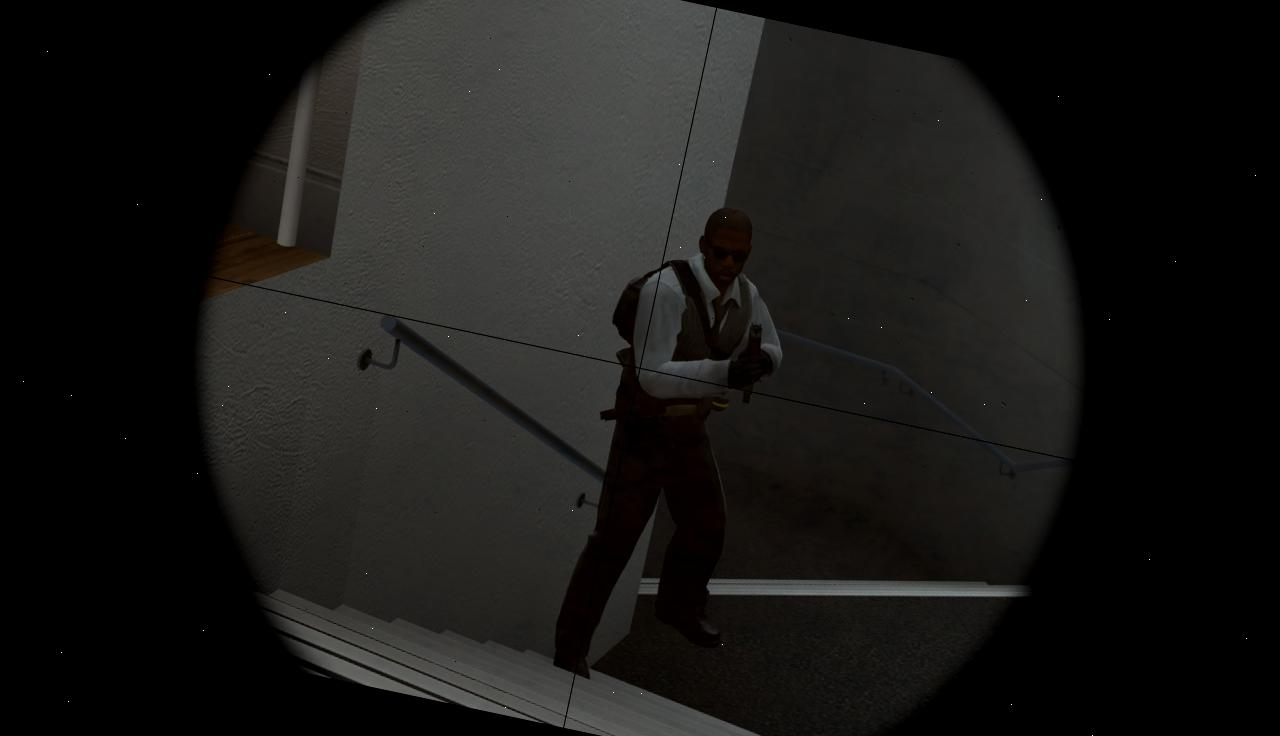tt: (549, 190, 798, 700)
tthead: (692, 203, 759, 290)
